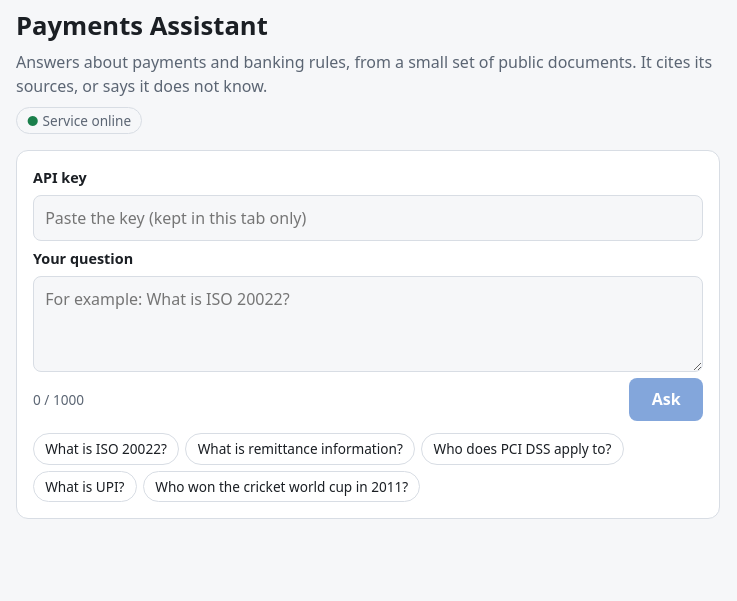
Scenario: errors › counts down after a 429 and disables asking meanwhile
In the text box labelled "Your question": (368, 324) [33,276,703,372], type "What is ISO 20022?"
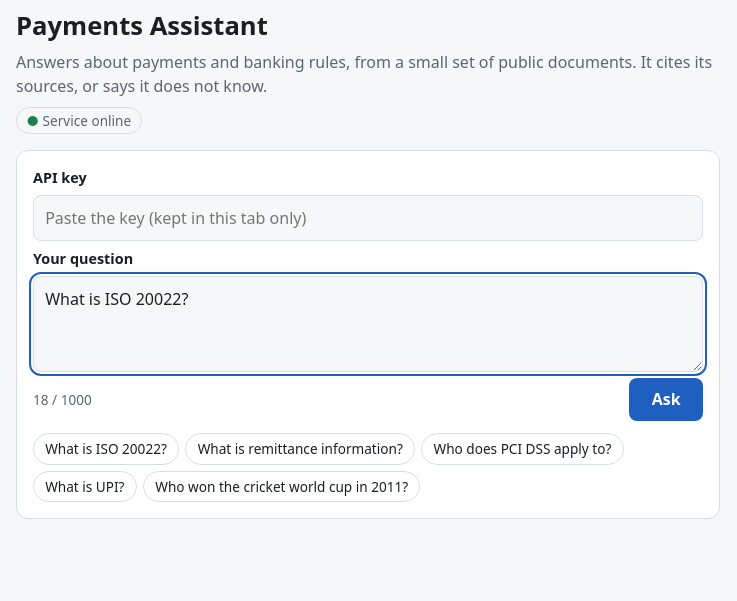
Click the button "Ask": (666, 400) [629,378,703,421]
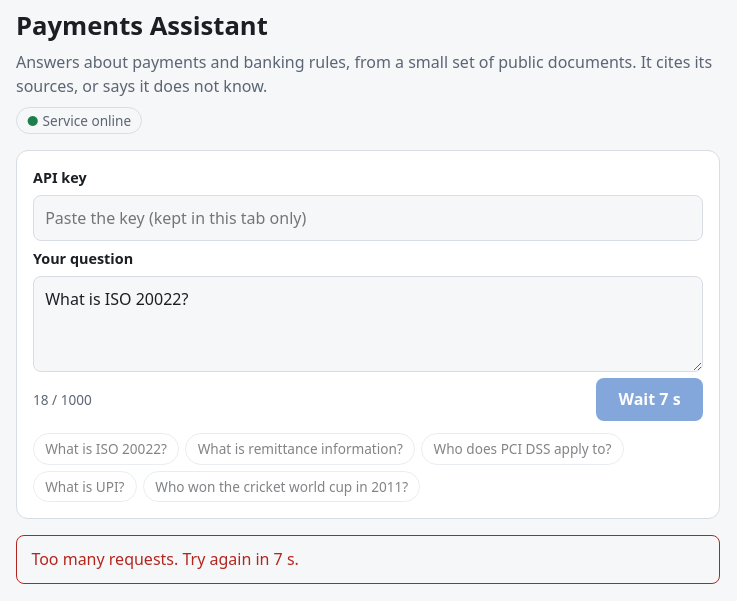
Now the message "Too many requests. Try again in 7 s." is shown, box [16,535,720,584]
Now the button "Wait 7 s" is disabled, box [596,378,703,421]
